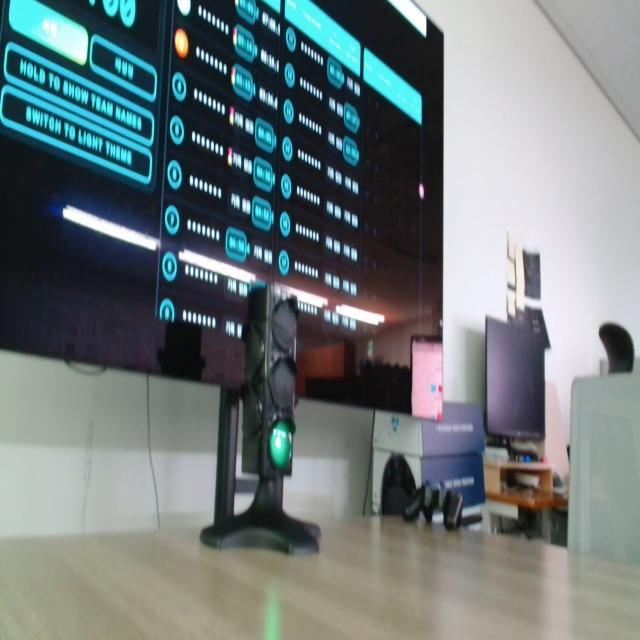green_light: (270, 421, 292, 469)
